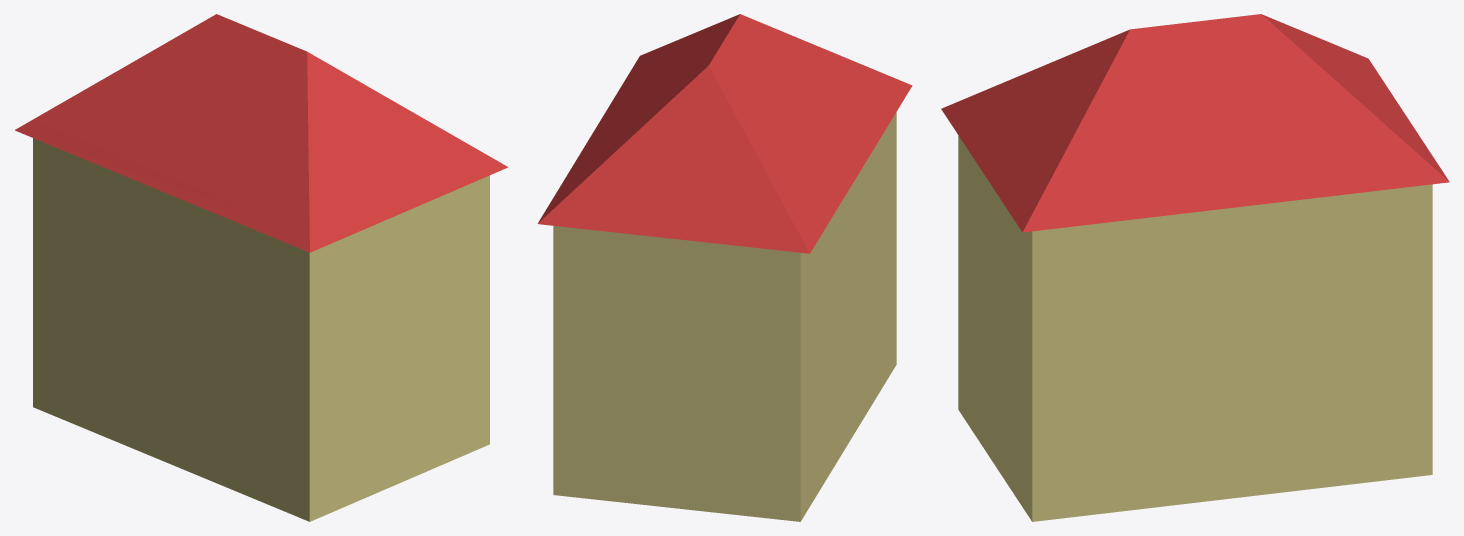
3 views of the same model, side by side, from view 1: azimuth 30°, elevation 25°; view 2: azimuth 150°, elevation 25°; view 3: azimuth 270°, elevation 25° (orthographic). The views are drawn at different scales.
Size of the model in its own units: 14.64 by 18.09 by 16.51.
